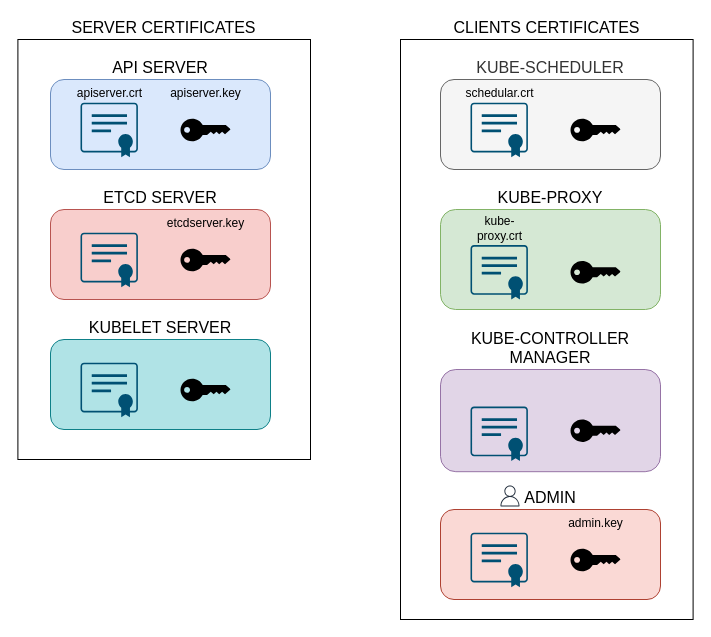
Some shapes in this 711 by 637 pixel diagram are drawn without their labels. Each missing label, with the centre of its shape:
"admin.crt" belongs at point 498,559.
"controller- manager.crt" belongs at point 498,433.
"controller- manager.key" belongs at point 595,430.
"etcdserver.crt" belongs at point 108,259.
"kube- proxy.key" belongs at point 595,271.
"kubelet.crt" belongs at point 108,389.
"kubelet.key" belongs at point 205,389.
"schedular.key" belongs at point 595,129.
